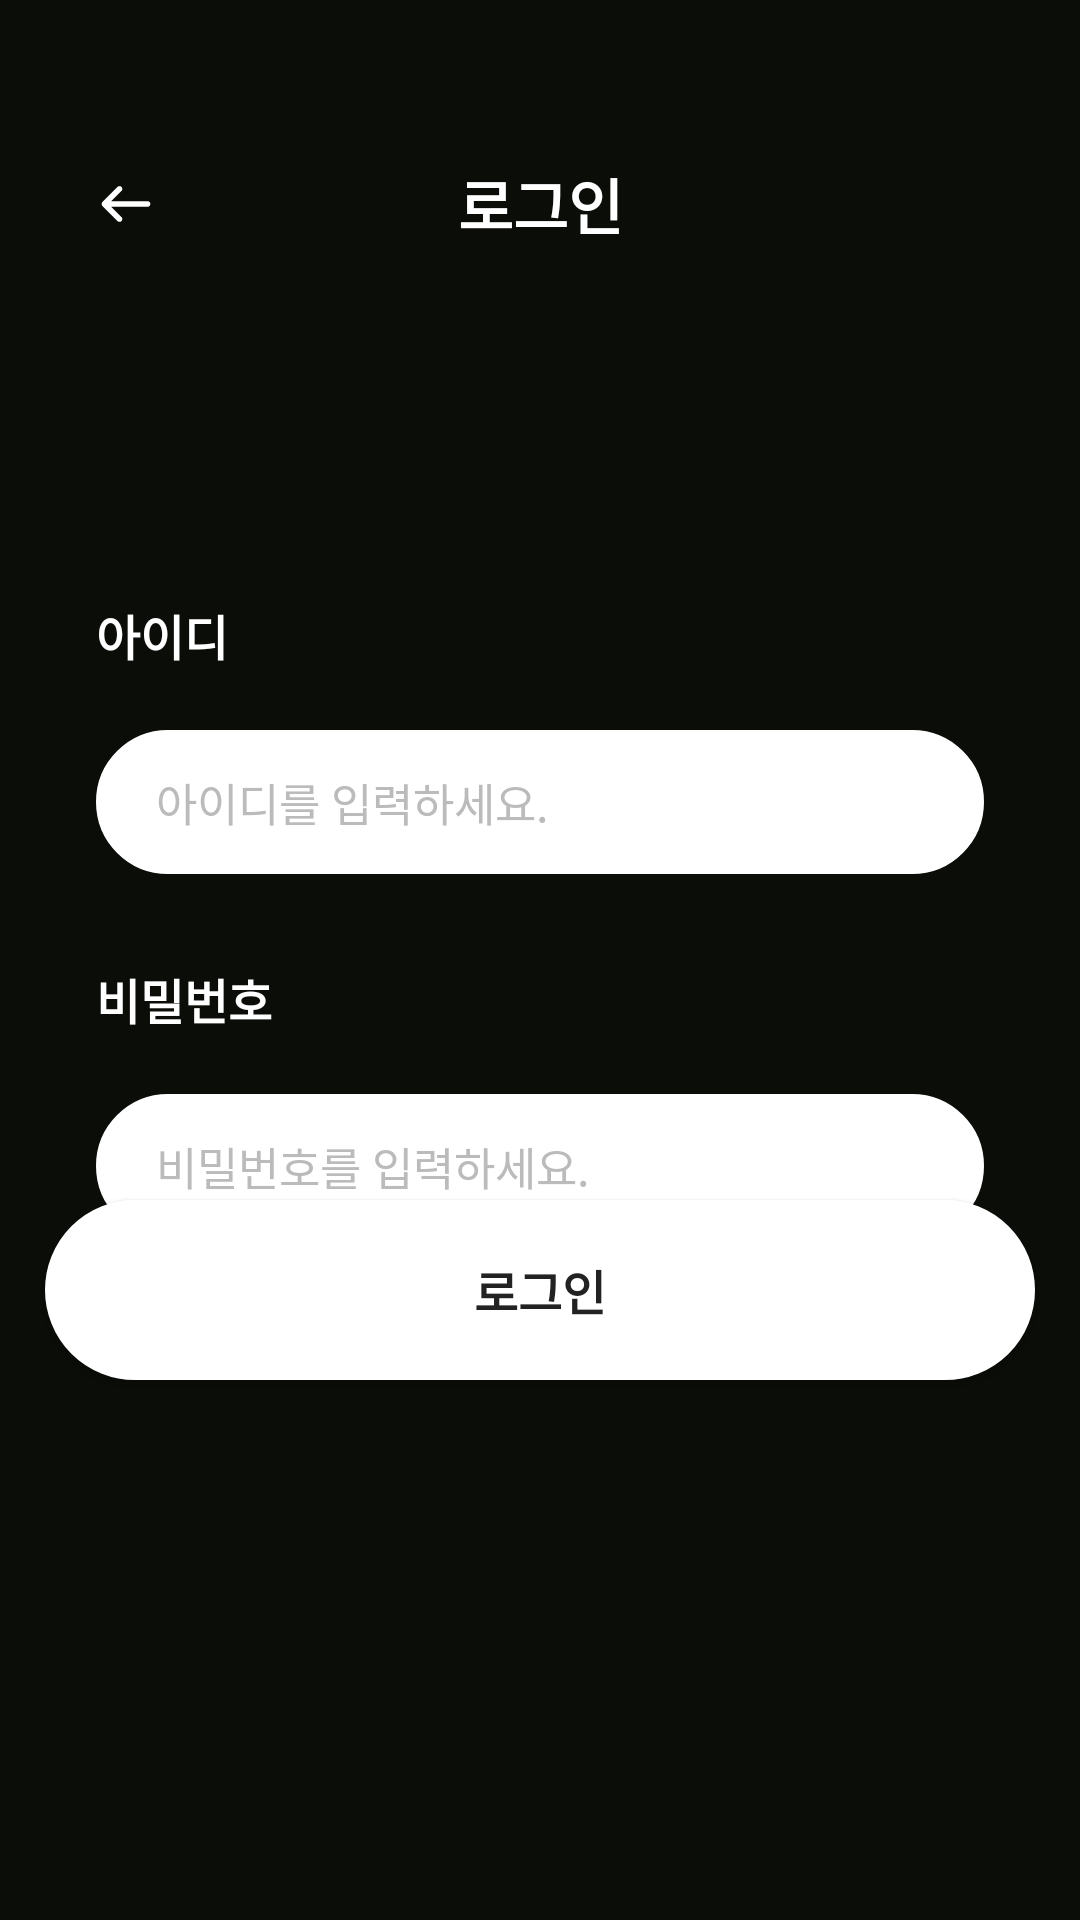

Screen size 1080x1920. Icon name, then its center in pixels as (x=x, y=y):
backarrow: (x=126, y=204)
